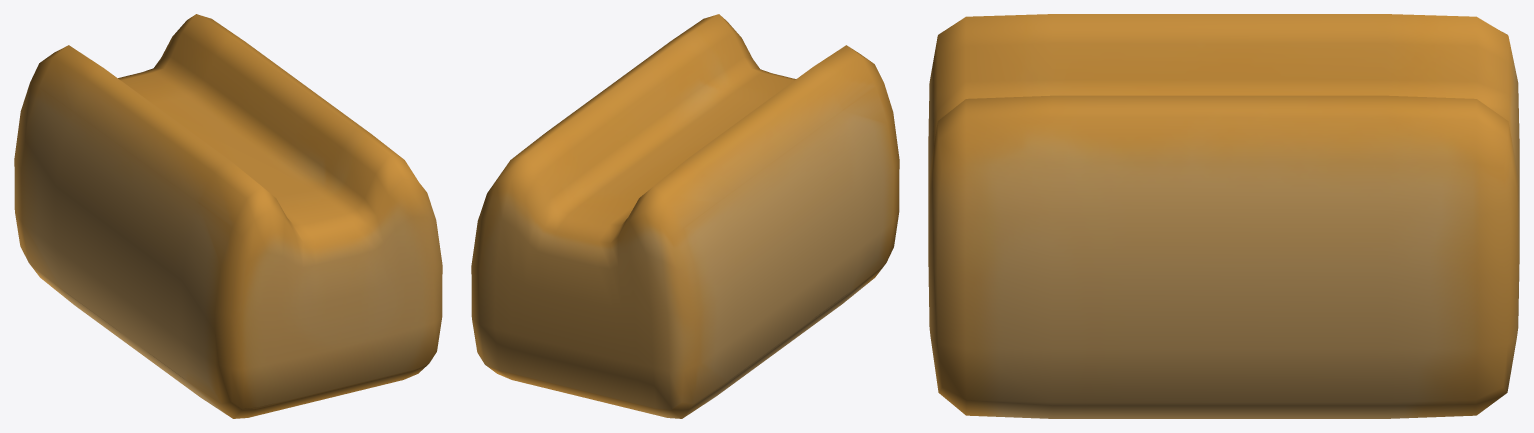
Rendered from Bakery_Breads_06.fbx.
3 views of the same model, side by side, from view 1: azimuth 30°, elevation 25°; view 2: azimuth 150°, elevation 25°; view 3: azimuth 270°, elevation 25° (orthographic). The views are drawn at different scales.
Visible parts, largest first — view 1: Catloaf.002; view 2: Catloaf.002; view 3: Catloaf.002.
Part boxes in pixels (bbox=[...]): Catloaf.002: bbox=[14, 14, 442, 418]; Catloaf.002: bbox=[471, 14, 899, 418]; Catloaf.002: bbox=[928, 14, 1519, 418].
Bounding box in the file's own units: 20.99 × 20.9 × 36.39.
